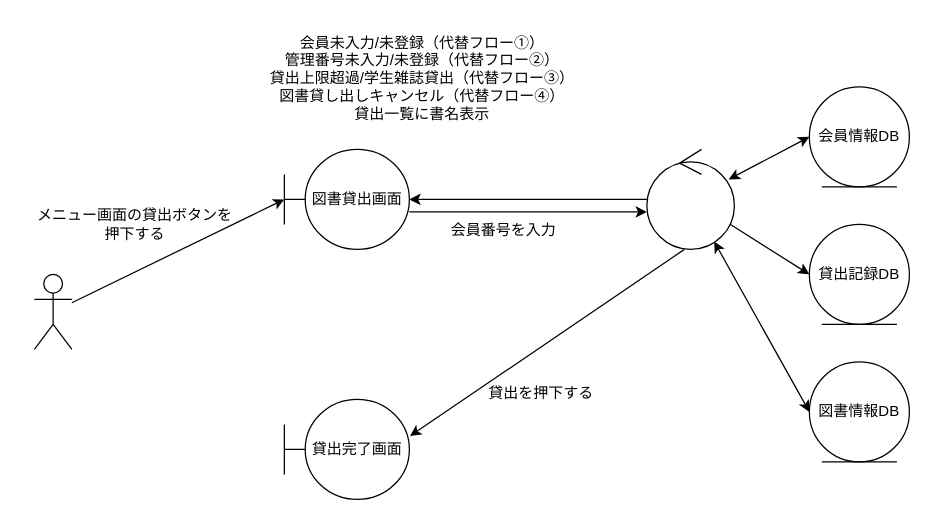
The diagram is 931 pixels wide and 521 high, and some of its shapes have lost their labels. Here are the shapes that lost their labels. From the top down, the centre of each, then its label:
At [690,198]: "貸出処理".
At [52,311]: "事務職員".
